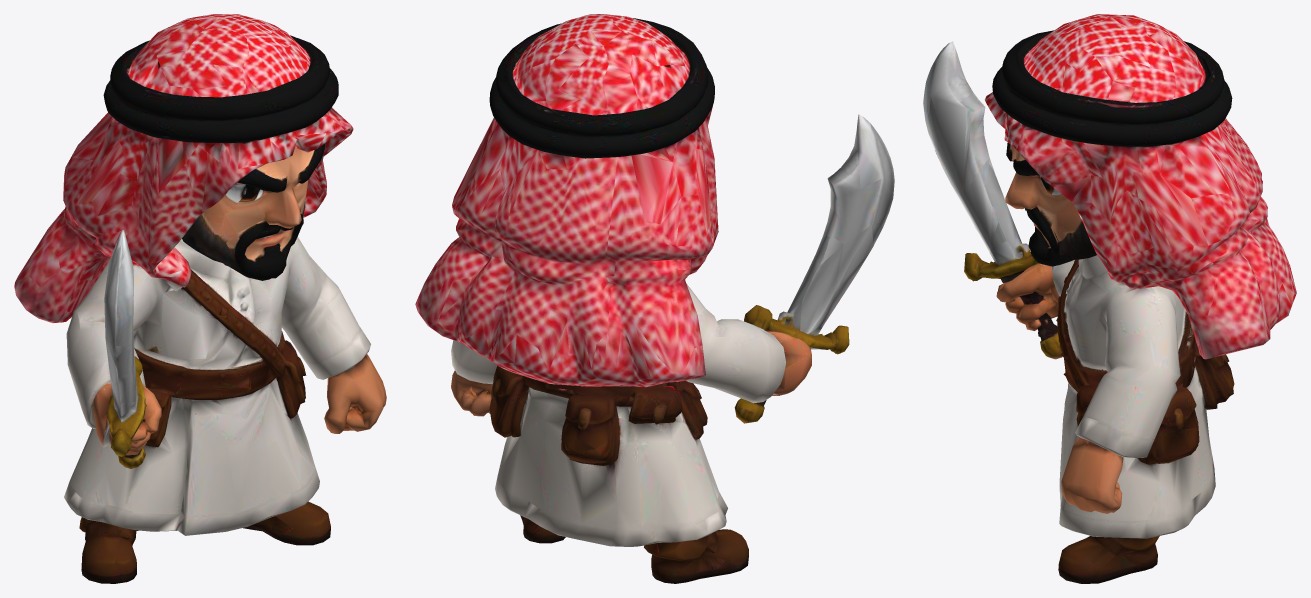
The model's file is sayaf.glb.
The picture shows the model from 3 angles, left to right: view 1: azimuth 30°, elevation 25°; view 2: azimuth 150°, elevation 25°; view 3: azimuth 270°, elevation 25°; orthographic projection.
Visible parts, largest first — view 1: sayaf; view 2: sayaf; view 3: sayaf.
Part boxes in pixels (x1=…): sayaf: x1=14, y1=14, x2=386, y2=583; sayaf: x1=415, y1=14, x2=894, y2=583; sayaf: x1=923, y1=14, x2=1296, y2=583.
Size of the model in its own units: 1.38 by 1.9 by 1.25.
Materials: 1 (1 with a texture image).
